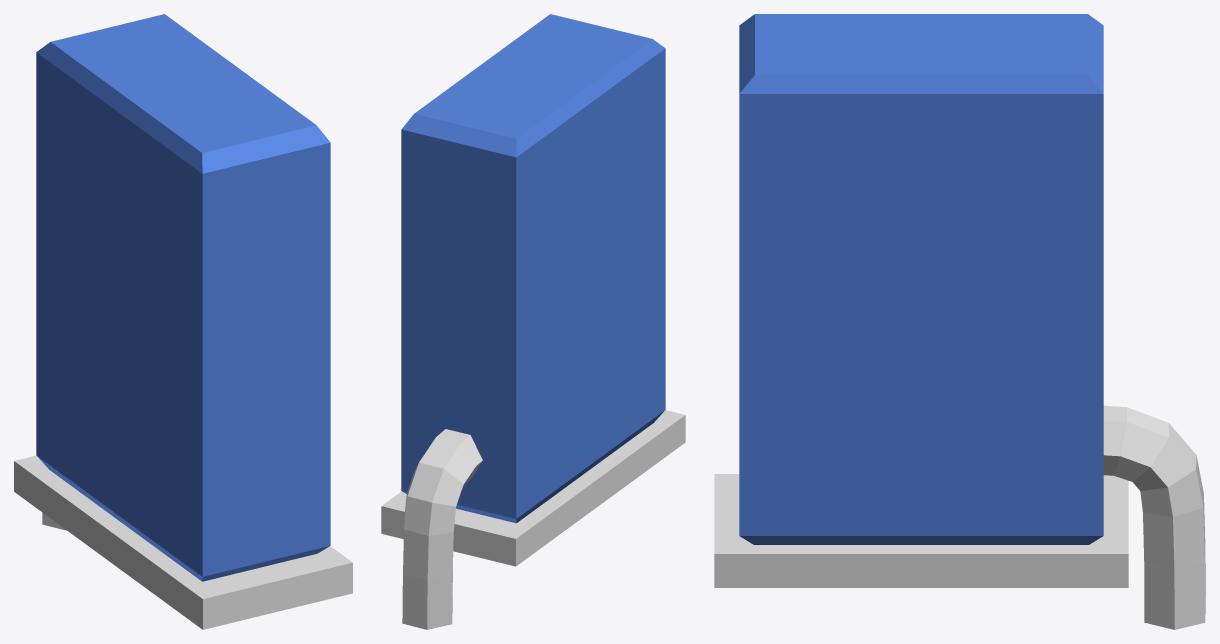
Rendered from Ngen.glb.
The picture shows the model from 3 angles, left to right: view 1: azimuth 30°, elevation 25°; view 2: azimuth 150°, elevation 25°; view 3: azimuth 270°, elevation 25°; orthographic projection. The views are drawn at different scales.
Parts seen in each view (by area): view 1: Cube.010; view 2: Cube.010; view 3: Cube.010.
Boxes of the visible parts, box(x1,y1,x2,y2) form: Cube.010: box(14, 14, 352, 629); Cube.010: box(381, 14, 685, 629); Cube.010: box(714, 14, 1205, 629).
Size of the model in its own units: 0.6584 by 2.18 by 1.7.
